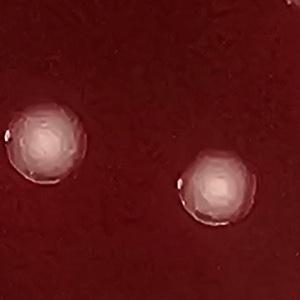colony: (0, 100, 95, 193), (170, 144, 265, 233)
